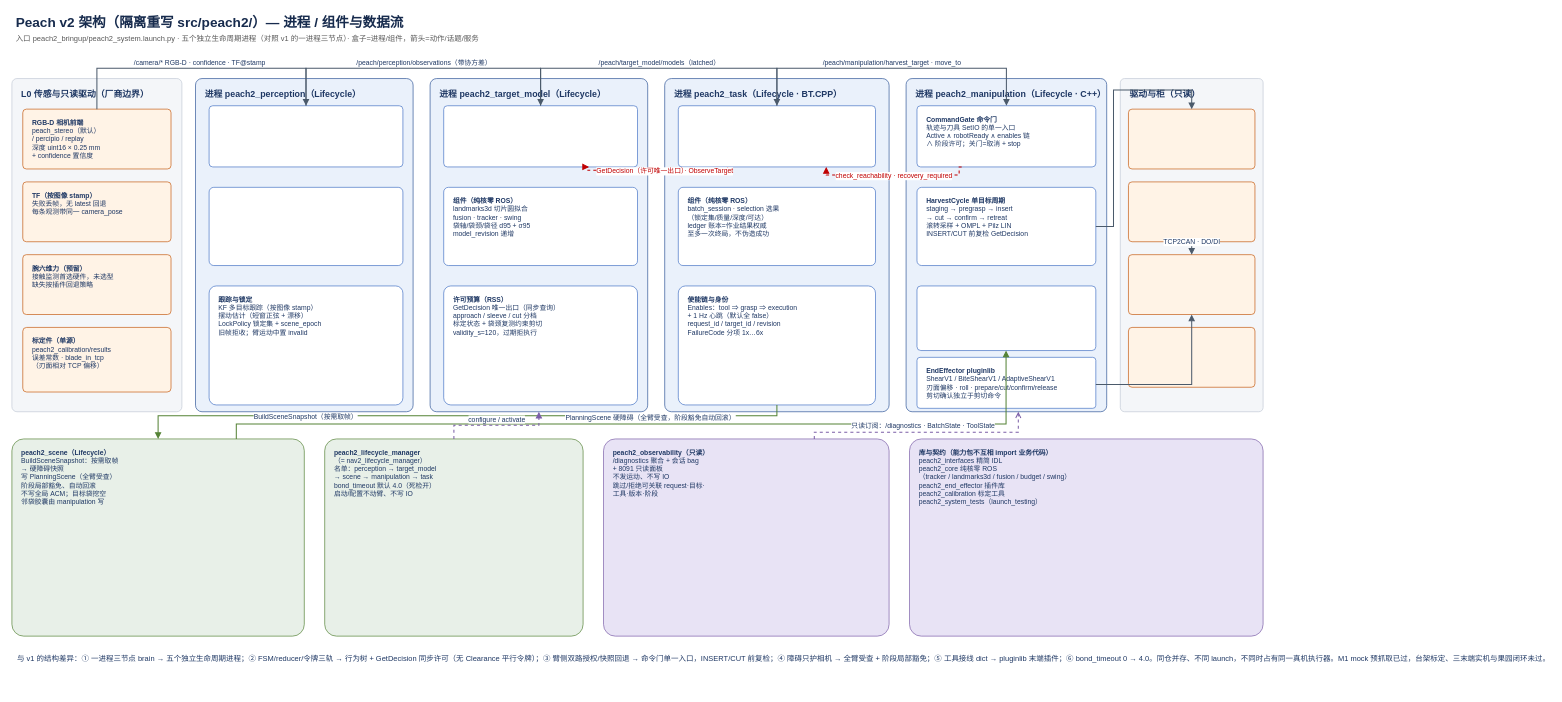
This 1562x702 diagram has some shape labels left out. The centre of each missing label's shape, as x and y in pixels:
"AUBO E5 控制柜 TCP2CAN · 工具 DO 反馈 DI 分物理通道" goes at pixel 1191 284.
"harvest_batch 行为树 ReactiveSequence / CheckSafety 观察 → 许可 → 执行 → 重试 / ACK" goes at pixel 777 136.
"move_group MoveIt（MTC 候选演进）" goes at pixel 1191 138.
"ros2_control + JTC mock=GenericSystem （命令镜像）" goes at pixel 1191 211.
"单帧感知（只出事实，不做裁决） 同步 + 深度质量门（置信度） → YOLO + MobileSAM" goes at pixel 305 136.
"场景差分 + 逆路撤退 邻袋胶囊 peach_bag_* 原子 diff （只动本前缀，不改 ACM） reverse_path 倒放 + 碰撞校验" goes at pixel 1006 318.
"多视融合 + 目标模型 视点内聚合 → 视点间 Huber 融合" goes at pixel 540 136.
"示教器 / 急停 硬件回路，不经 ROS 故障后禁止 resume" goes at pixel 1191 357.
"组件（纯核零 ROS） LatestSlot 容量 1 + 回调外推理 2D/3D 袋底·袋颈·扎口 + 2D↔3D 交叉校验 深度噪声模型 → 地标协方差" goes at pixel 305 226.
